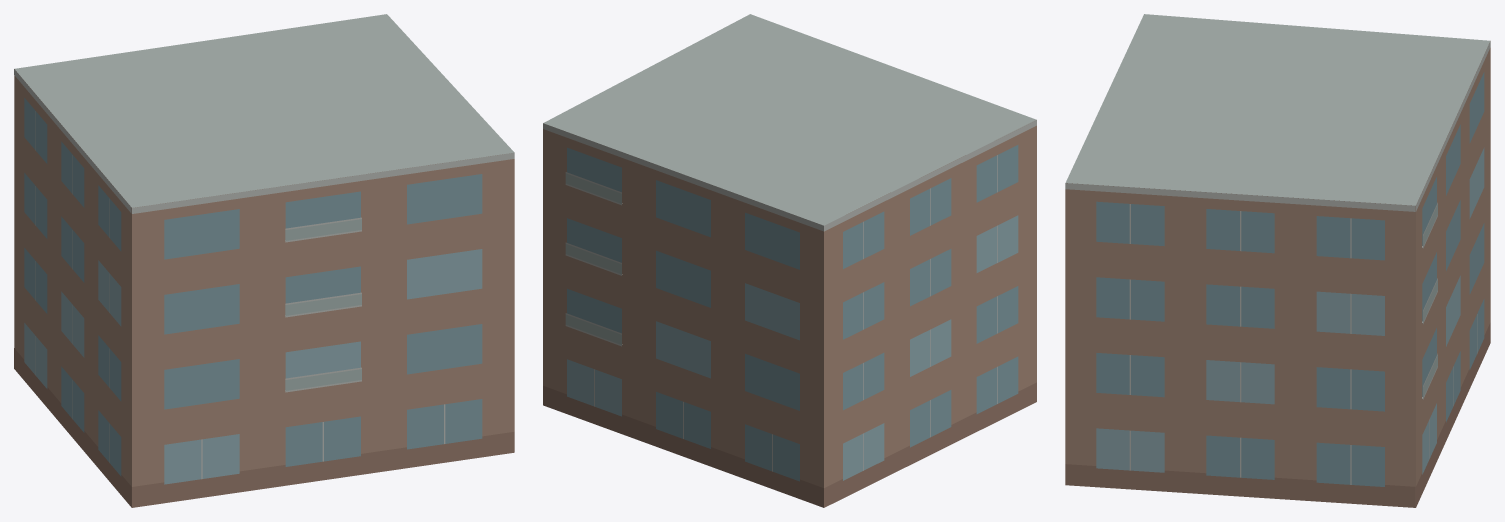
File: survey-upis-33019870.glb
3 renders of one model, left to right at view 1: azimuth 30°, elevation 25°; view 2: azimuth 150°, elevation 25°; view 3: azimuth 270°, elevation 25°, orthographic. The views are drawn at different scales.
Visible parts, largest first — view 1: survey-upis-33019870.tmp; view 2: survey-upis-33019870.tmp; view 3: survey-upis-33019870.tmp.
Boxes of the visible parts, x1,y1,x2,y2 form: survey-upis-33019870.tmp: (14, 14, 514, 507); survey-upis-33019870.tmp: (543, 14, 1036, 507); survey-upis-33019870.tmp: (1065, 14, 1490, 507).
Size of the model in its own units: 16.06 by 11.8 by 15.05.
